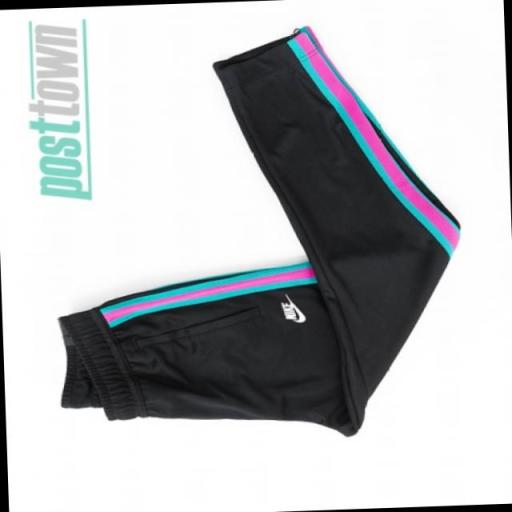Nike: (288, 296, 307, 322), (280, 300, 298, 320)
